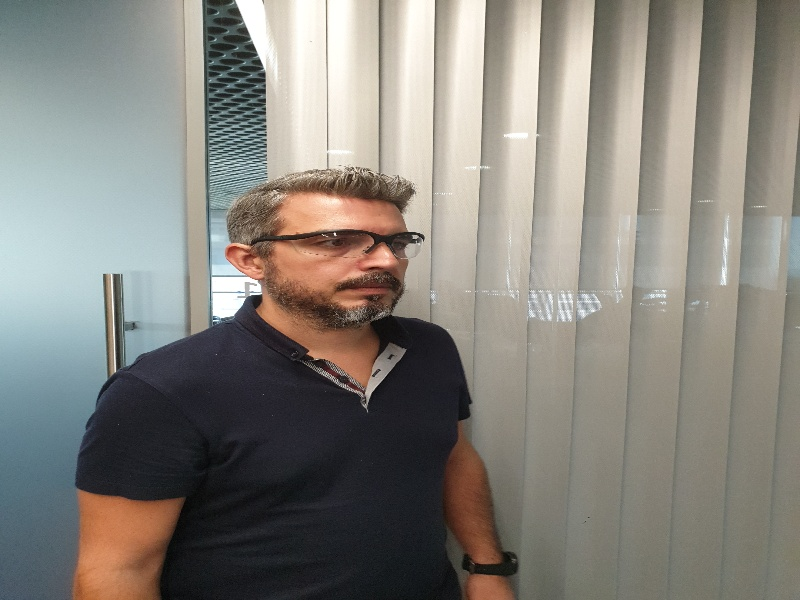Gozluk: (257, 231, 425, 257)
